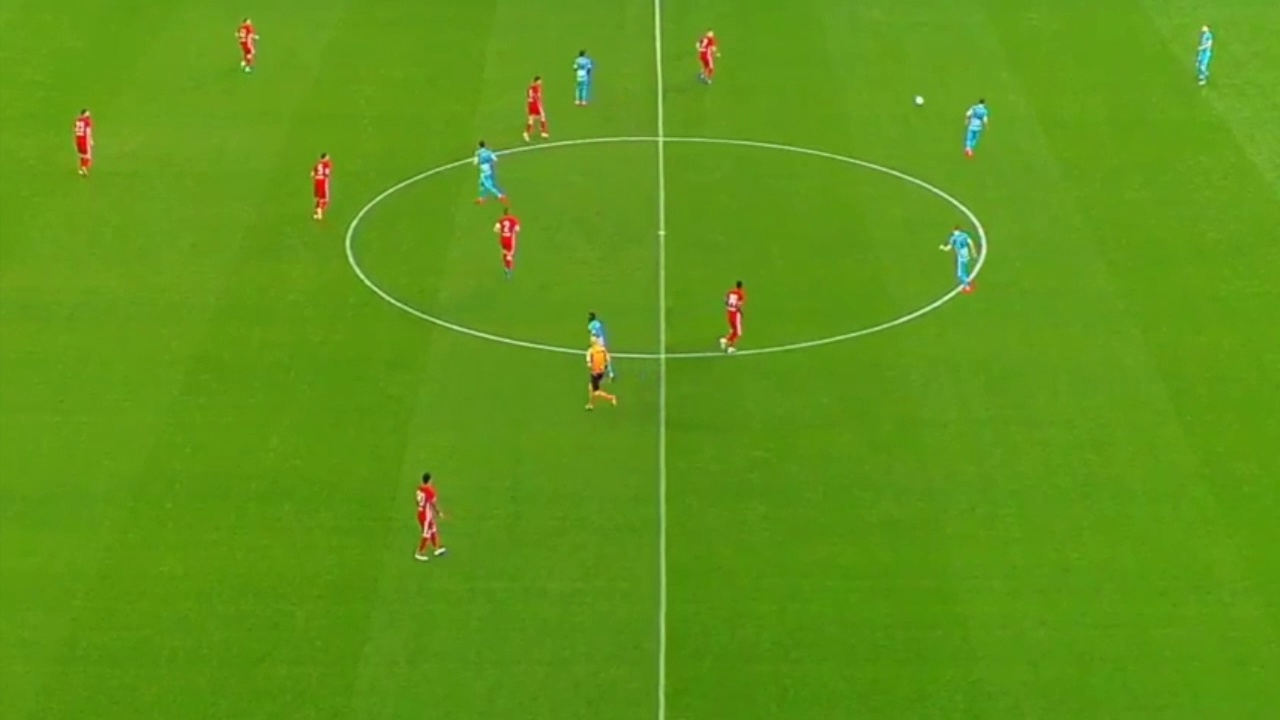ball: (915, 95, 924, 106)
person: (410, 472, 446, 563), (492, 209, 521, 277), (945, 220, 974, 288), (471, 143, 502, 204), (71, 106, 95, 179), (718, 281, 743, 348), (695, 27, 720, 87), (964, 98, 989, 155), (1192, 23, 1213, 90), (525, 77, 546, 140), (310, 154, 331, 216), (236, 16, 256, 70), (574, 48, 589, 102)
